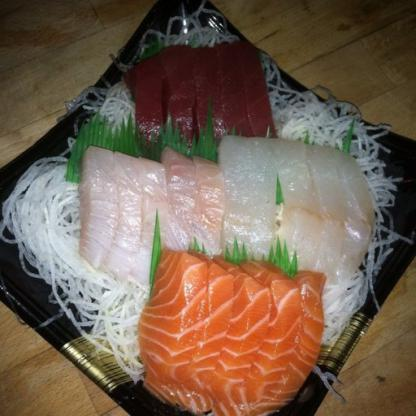salmon: (136, 258, 319, 416)
